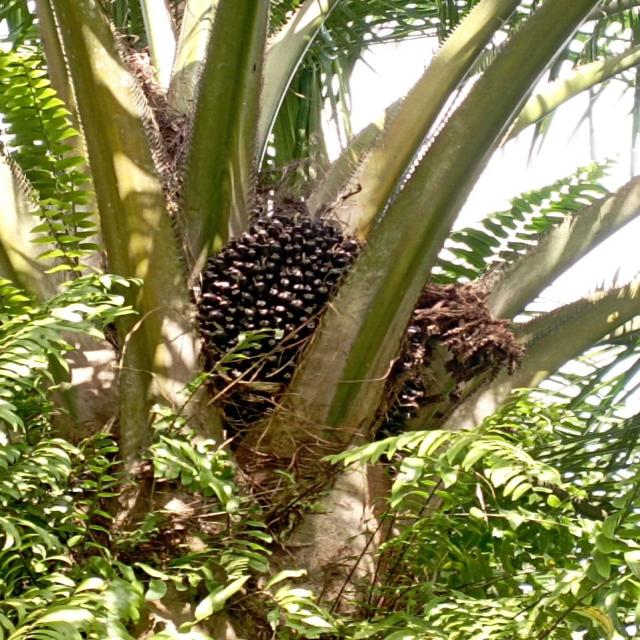fraksi 00: (181, 188, 387, 362)
